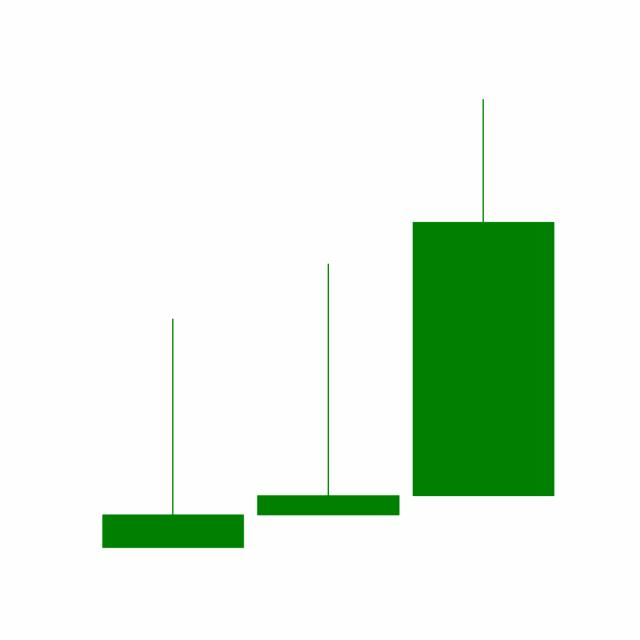Gravestone Doji: (249, 260, 406, 516)
